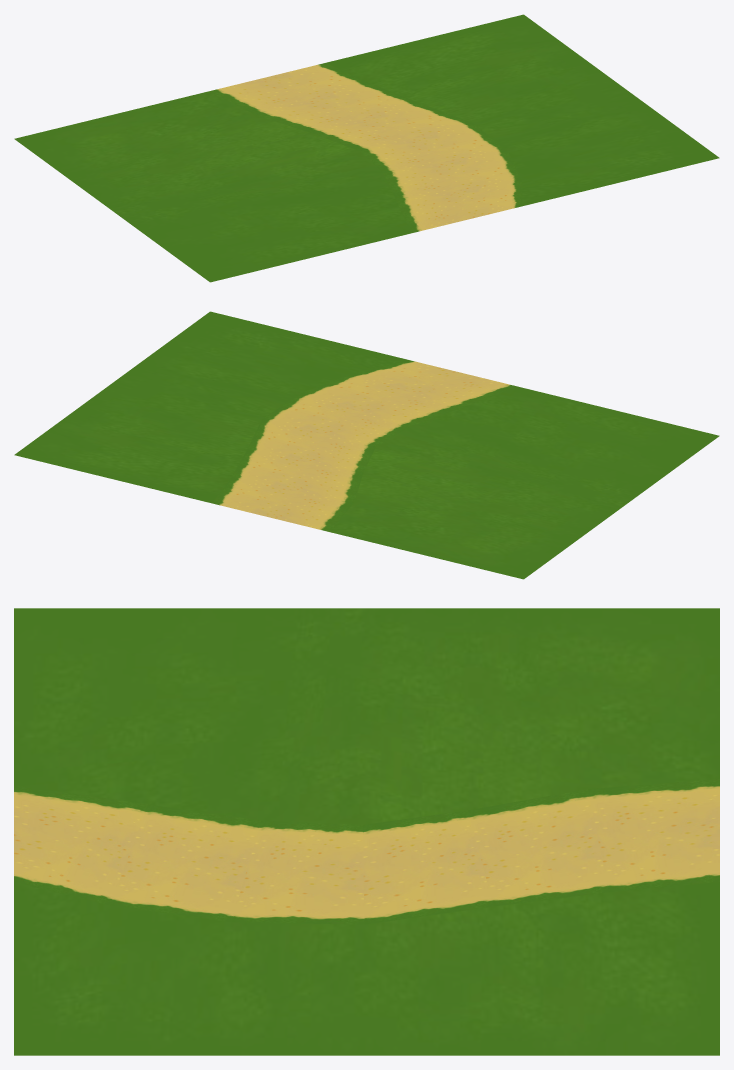
The model's file is path3.dae.
3 views of the same model, one above another, from view 1: azimuth 30°, elevation 25°; view 2: azimuth 150°, elevation 25°; view 3: azimuth 270°, elevation 25° (orthographic). The views are drawn at different scales.
Parts seen in each view (by area): view 1: path18, path13, path17, path14, path16, path15; view 2: path18, path13, path17, path14, path16, path15; view 3: path18, path17, path13, path14, path16, path15.
Boxes of the visible parts, x1,y1,x2,y2 form: path18: [14, 14, 548, 169]; path13: [161, 144, 719, 282]; path17: [57, 33, 580, 196]; path14: [131, 117, 700, 245]; path16: [93, 56, 621, 212]; path15: [115, 86, 663, 223]; path18: [14, 436, 565, 579]; path13: [192, 311, 719, 472]; path17: [40, 413, 602, 547]; path14: [155, 325, 669, 494]; path16: [72, 383, 623, 521]; path15: [112, 352, 639, 505]; path18: [566, 608, 719, 1055]; path17: [435, 608, 627, 1055]; path13: [14, 608, 193, 1055]; path14: [81, 608, 301, 1055]; path16: [358, 608, 512, 1055]; path15: [214, 608, 366, 1055].
Size of the model in its own units: 72 by 1e-06 by 48.
Materials: 2 (2 with a texture image).
